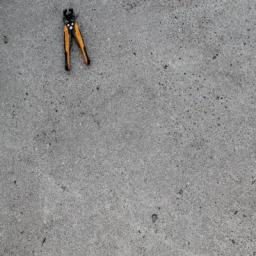FOD: (59, 7, 95, 73)
